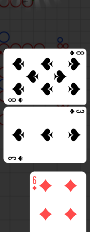3C: (68, 108, 85, 115)
6D: (31, 175, 37, 192)
8C: (68, 50, 85, 57)
